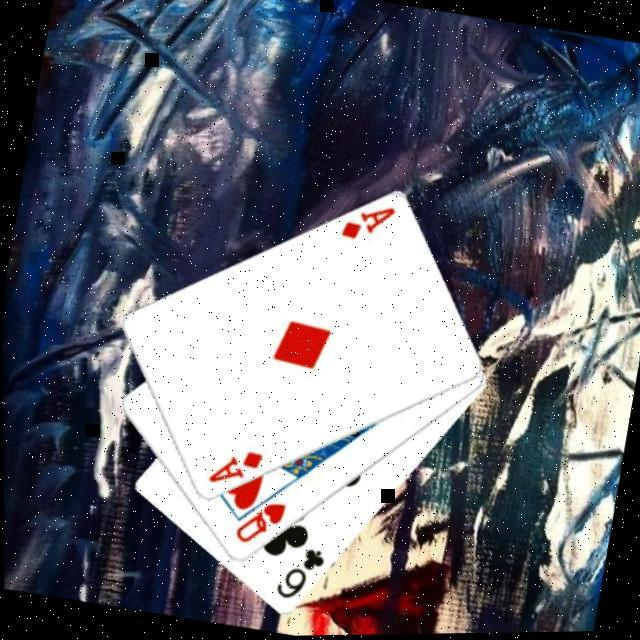6C: (268, 539, 326, 606)
AD: (334, 195, 397, 248), (202, 439, 264, 492)
QH: (228, 492, 287, 551)
